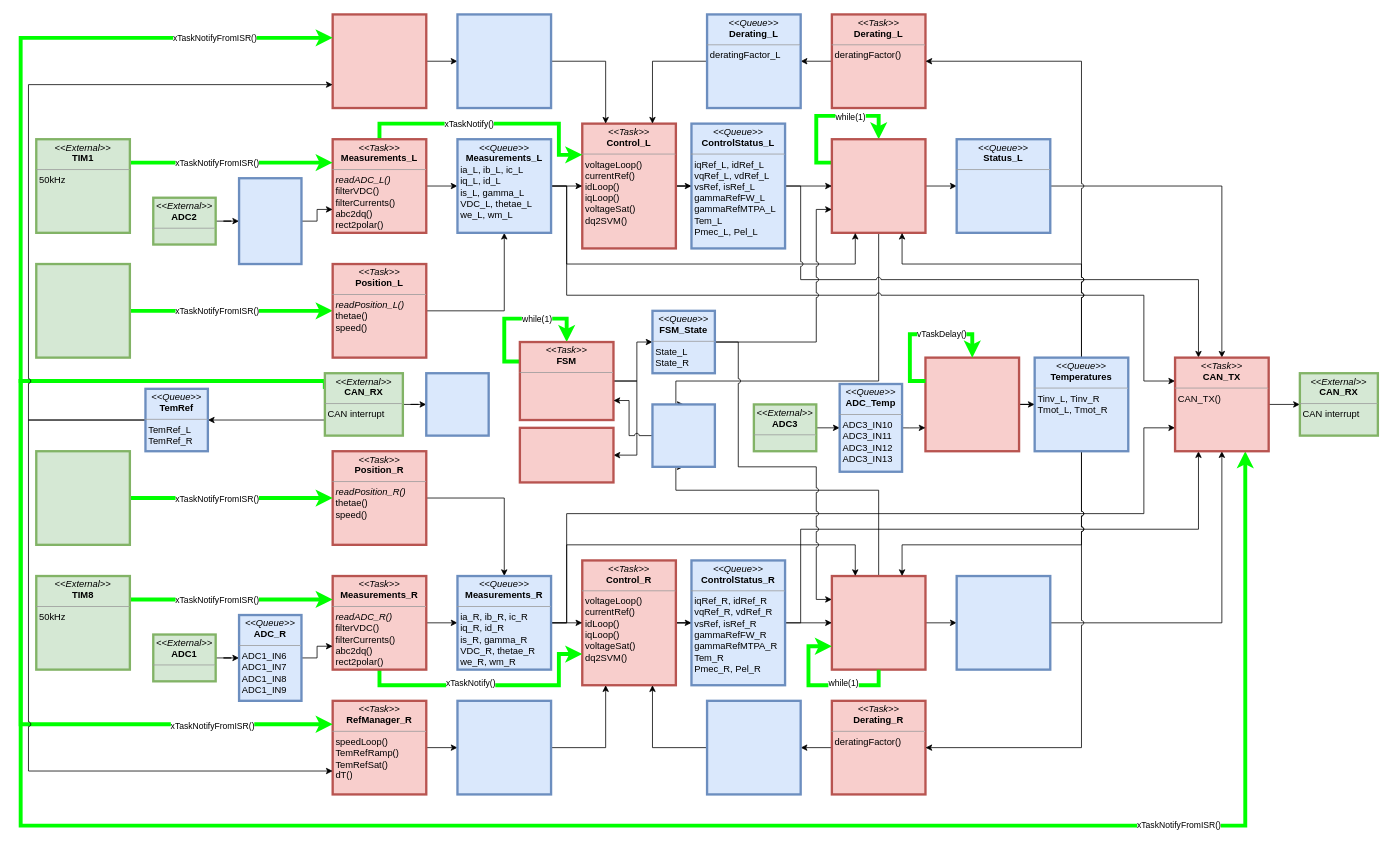
Image size: 1392x847. Some labels were removed from this diagram. The shapes that lost their labels are listed below. From the top down, each one's centre as x and y in pixels, then its label:
At pixel 379 61: "<<Task>> RefManager_ L speedLoop() TemRefRamp() TemRefSat() dT()".
At pixel 504 61: "<<Queue>> TorqueRef_ L TemRefSat_L, dT_L".
At pixel 878 186: "<<Task>> Safety_L".
At pixel 270 221: "<<Queue>> ADC_ L ADC2_IN0 ADC2_IN1 ADC2_IN2 ADC2_IN3".
At pixel 83 310: "<<External>> TIM4 Input capture".
At pixel 457 404: "<<Queue>> Enable Enable".
At pixel 972 404: "<<Task>> Temperatures readADC() filterTemperatures()".
At pixel 566 454: "<<Task>> LEDs LEDs()".
At pixel 683 435: "<<Queue>> FSM_Event Event_L Event_R".
At pixel 83 498: "<<External>> TIM2 Input capture".
At pixel 878 622: "<<Task>> Safety_R".
At pixel 1003 622: "<<Queue>> Status_R".
At pixel 504 747: "<<Queue>> TorqueRef_ R TemRefSat_R, dT_R".
At pixel 753 747: "<<Queue>> Derating_ R deratingFactor_R".
